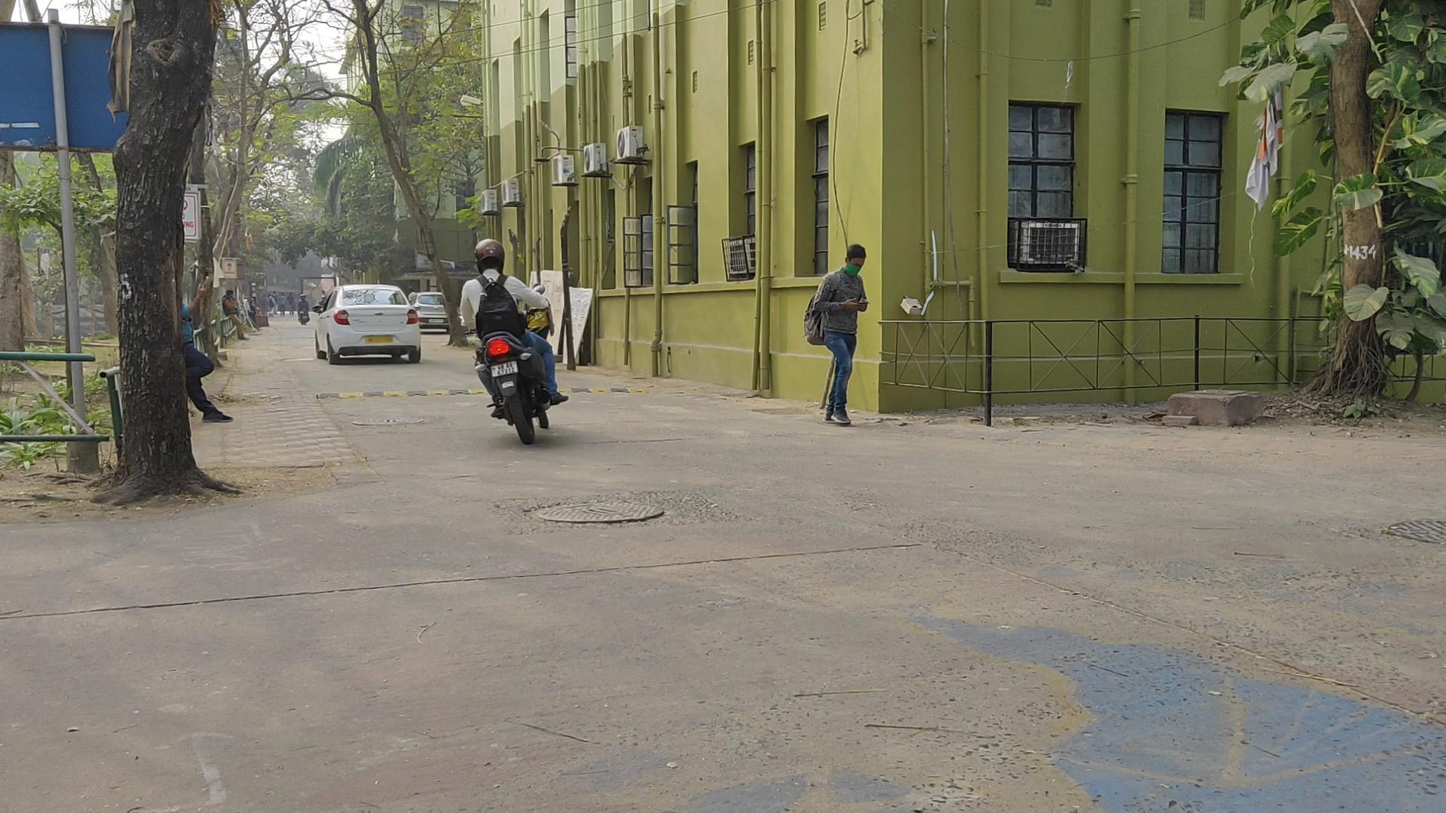bike: (457, 236, 565, 446)
car: (312, 282, 420, 366), (410, 291, 452, 336)
